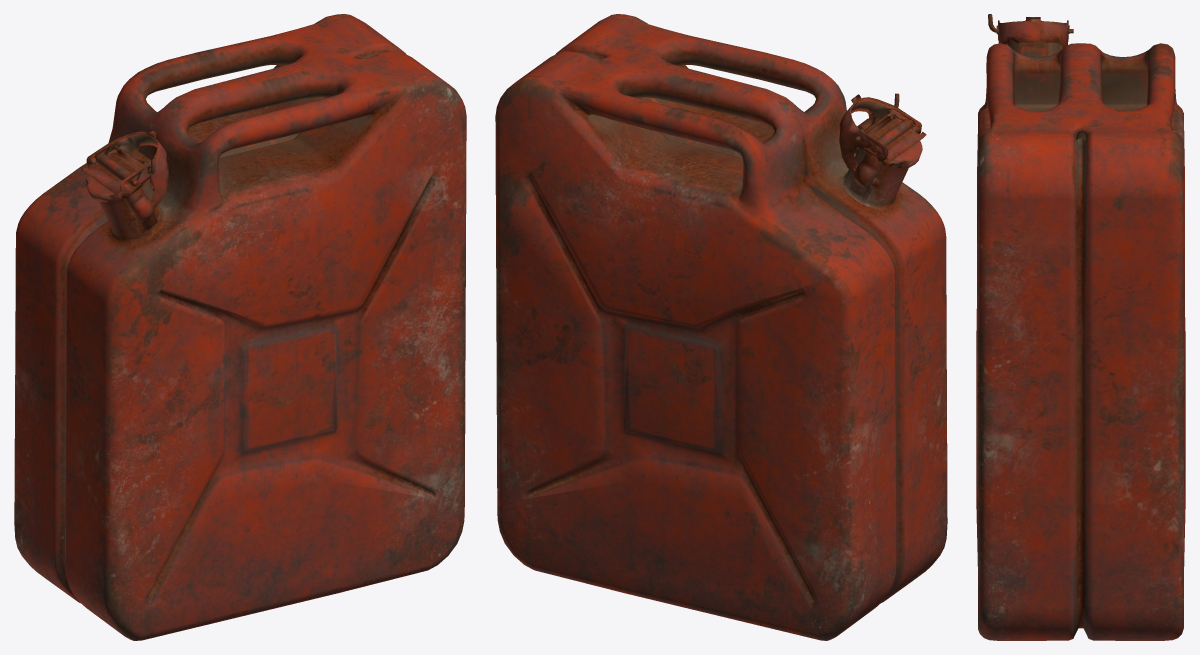
Rendered from metal_jerrycan.glb.
The picture shows the model from 3 angles, left to right: view 1: azimuth 30°, elevation 25°; view 2: azimuth 150°, elevation 25°; view 3: azimuth 270°, elevation 25°; orthographic projection. The views are drawn at different scales.
Visible parts, largest first — view 1: metal_jerrycan; view 2: metal_jerrycan; view 3: metal_jerrycan.
Boxes of the visible parts, left/top/right/bottom form: metal_jerrycan: left=14, top=14, right=466, bottom=640; metal_jerrycan: left=495, top=14, right=947, bottom=640; metal_jerrycan: left=976, top=14, right=1185, bottom=640.
Size of the model in its own units: 0.3501 by 0.4548 by 0.1717.
1 material, 1 textured.
